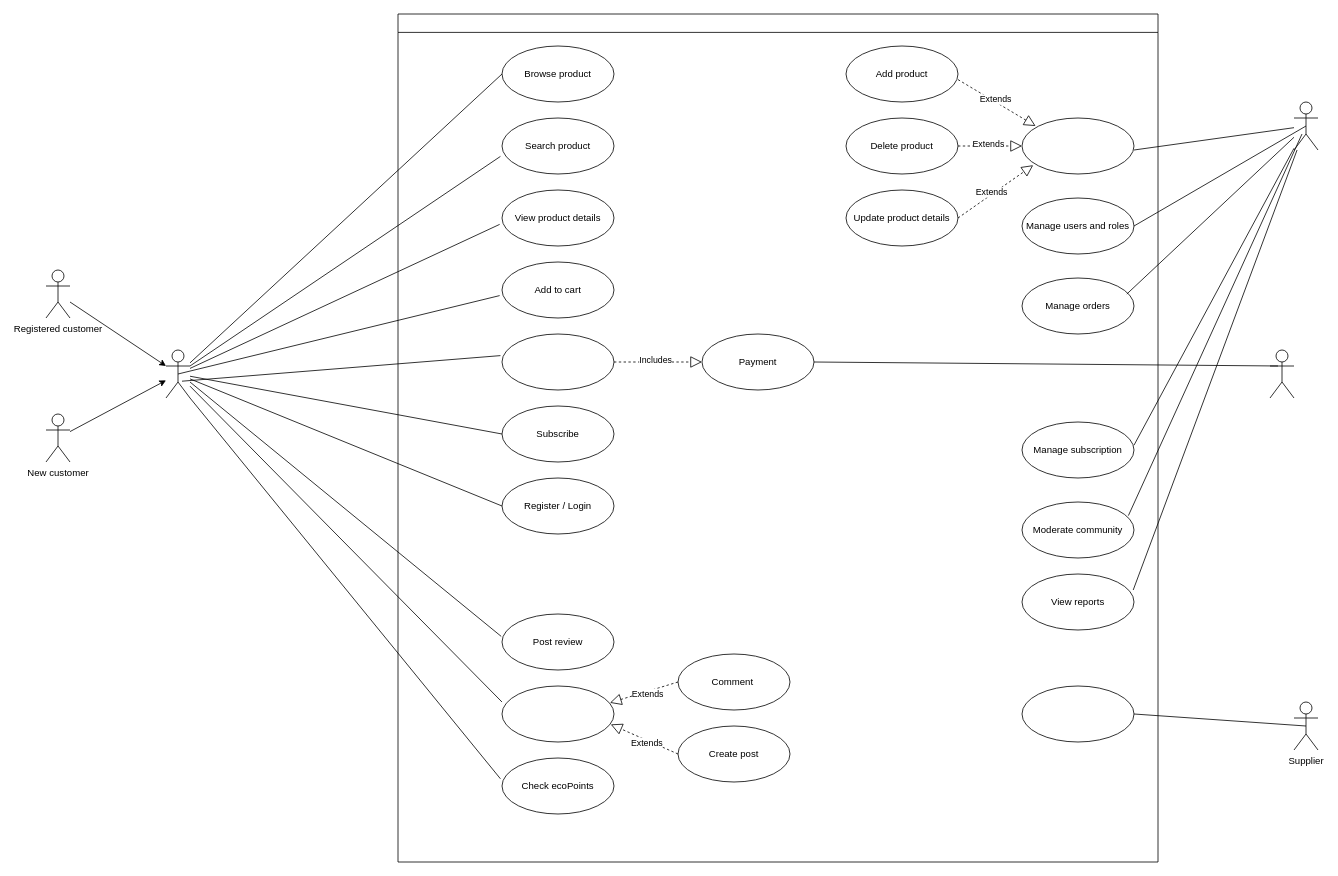
This 1338x876 diagram has some shape labels left out. Here are the shapes that lost their labels. From the top down, the box of each, then its label:
(1021, 117, 1134, 174): Manage products
(1293, 101, 1318, 150): Admin
(165, 349, 190, 398): Customer
(501, 333, 614, 390): Checkout
(1269, 349, 1294, 398): Payment gateway
(397, 13, 1158, 862): DragonStone online shopping system
(501, 685, 614, 742): Participate in community
(1021, 685, 1134, 742): Update inventory
